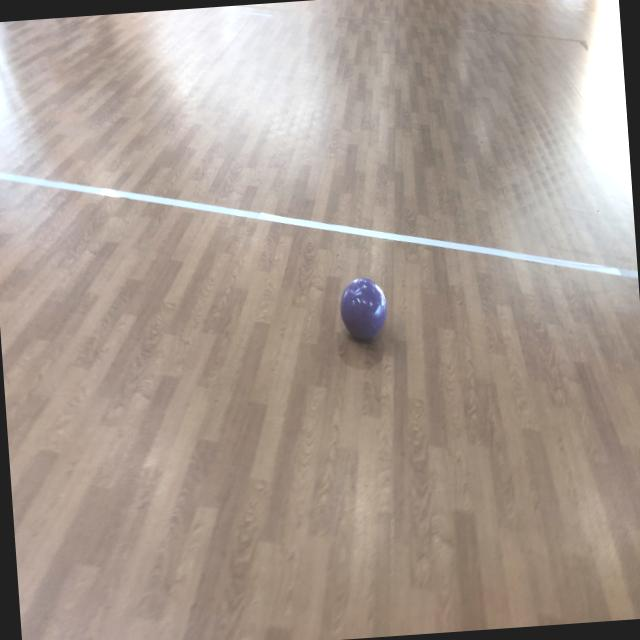purple_ball: (338, 277, 389, 343)
